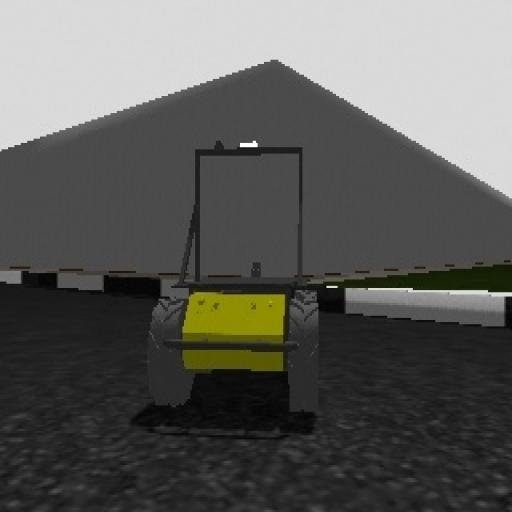huskya200: (144, 128, 328, 420)
